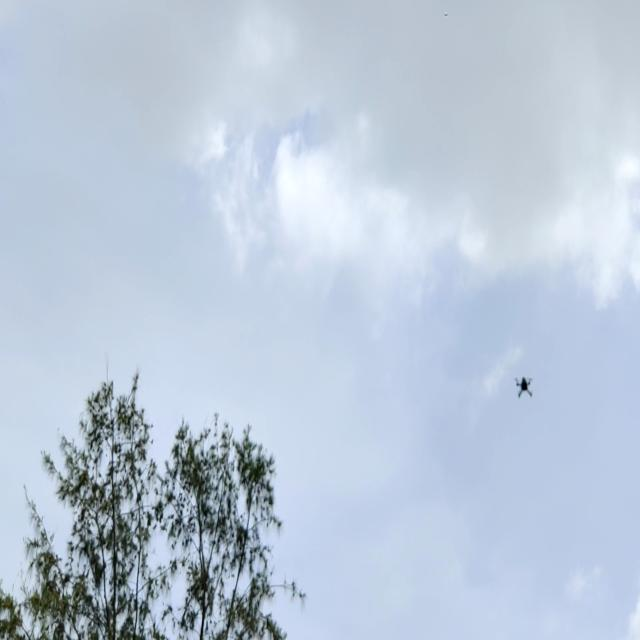drone: (511, 372, 536, 403)
